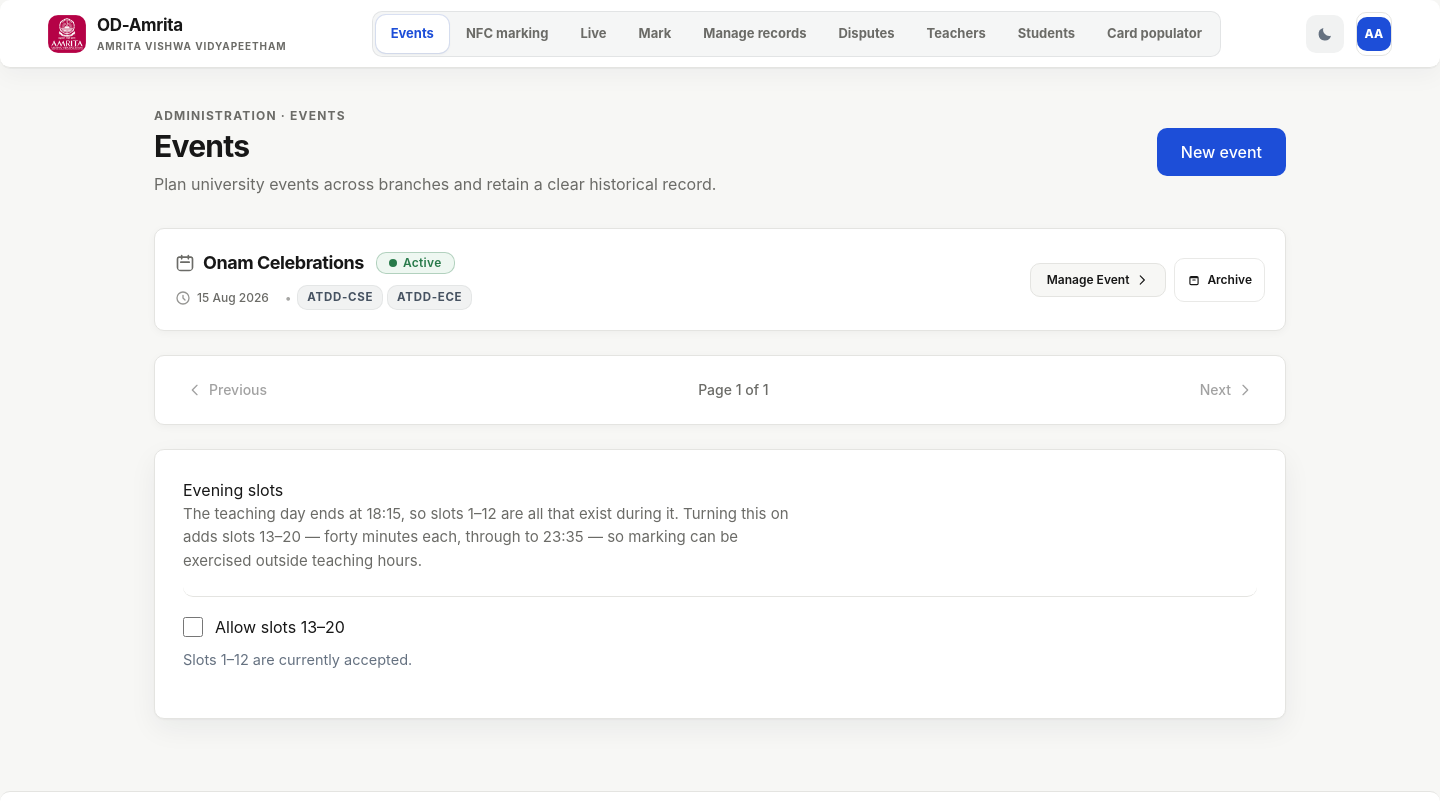
Test: Admin event detail and categories › [P1] adds a category and shows it without a manual reload
Click the link "Onam Celebrations".
click(269, 263)  # box [175,249,364,277]
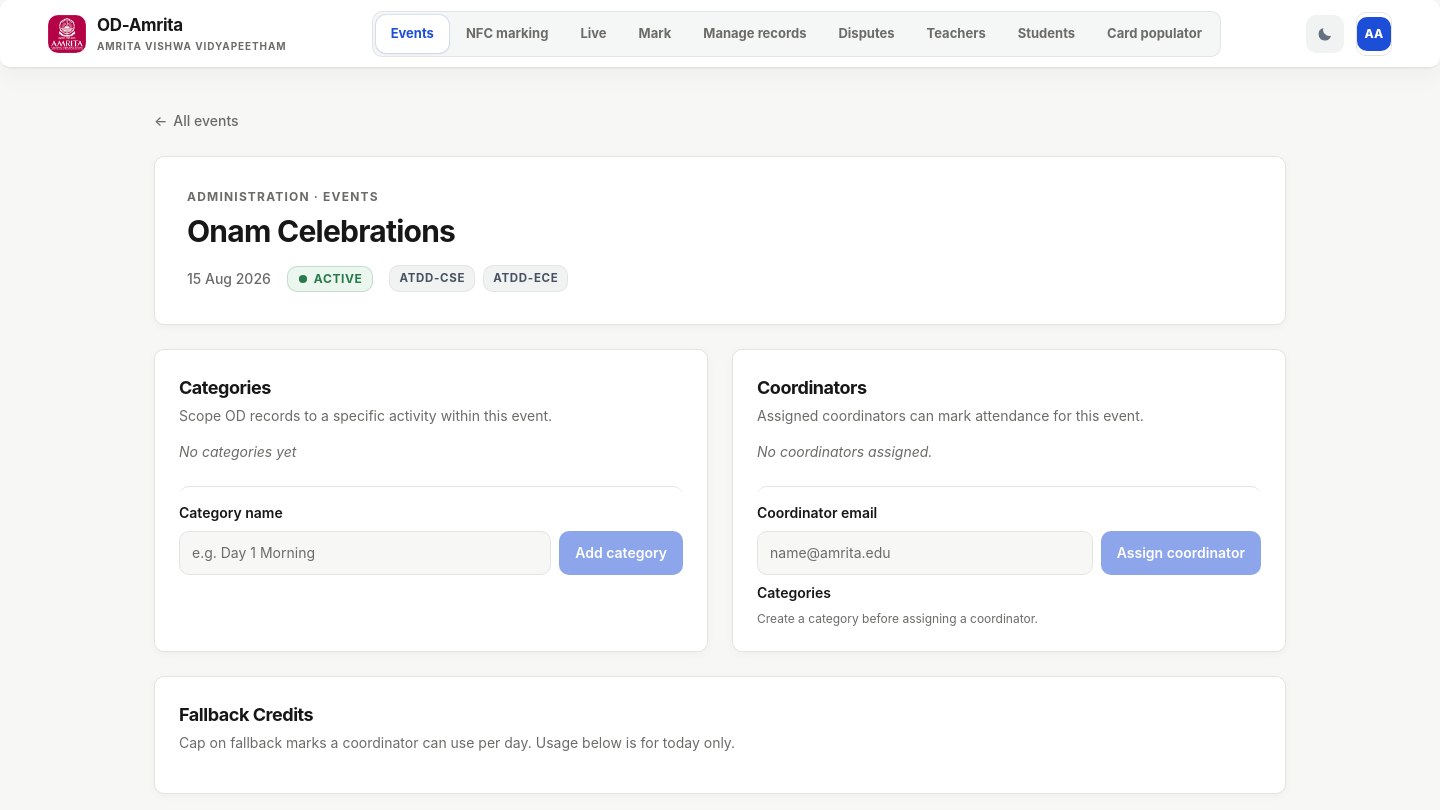
Type "Procession" into the field labelled "Category name".
click(365, 553); type("Procession")  # box [179,531,551,575]
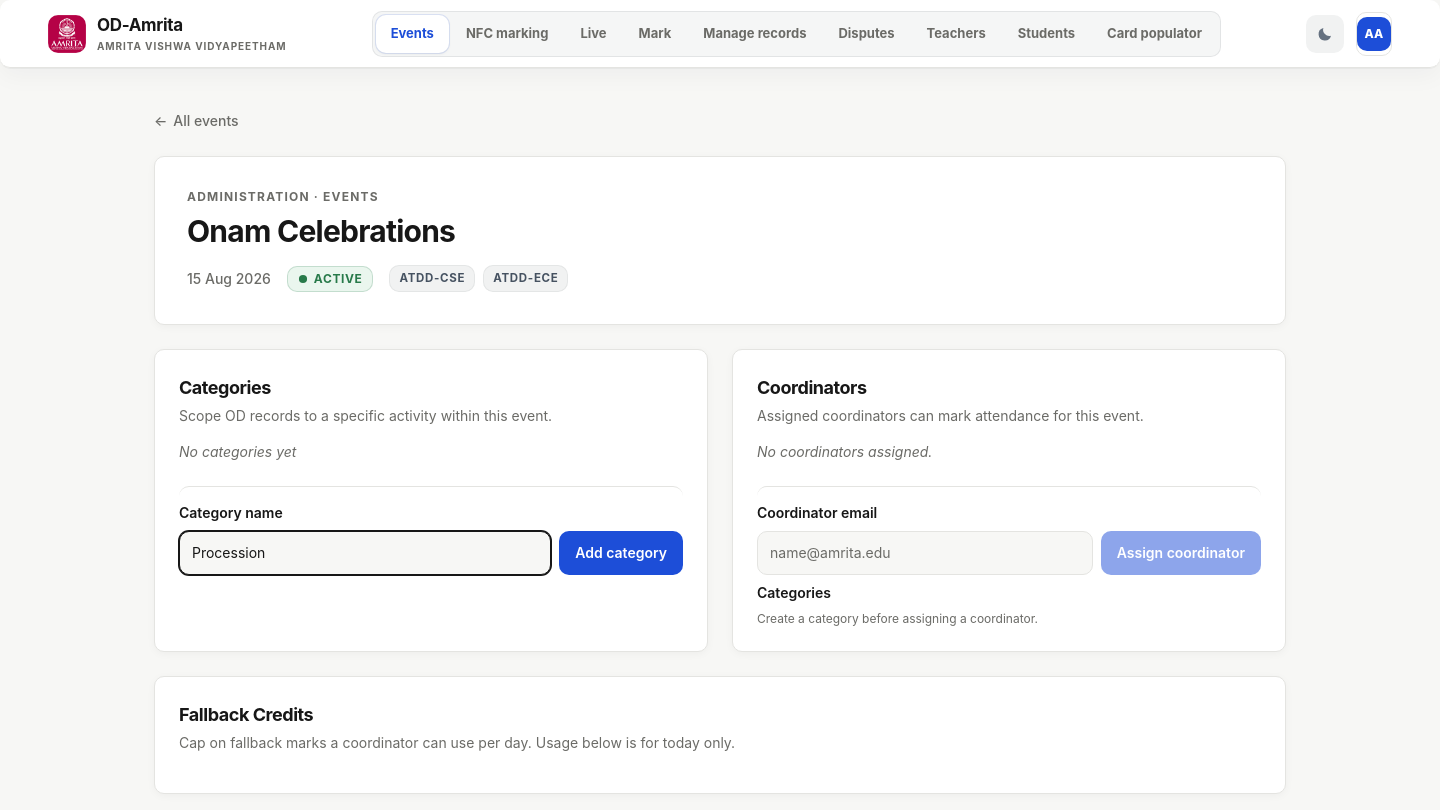
Click the button "Add category".
click(621, 553)  # box [559,531,683,575]
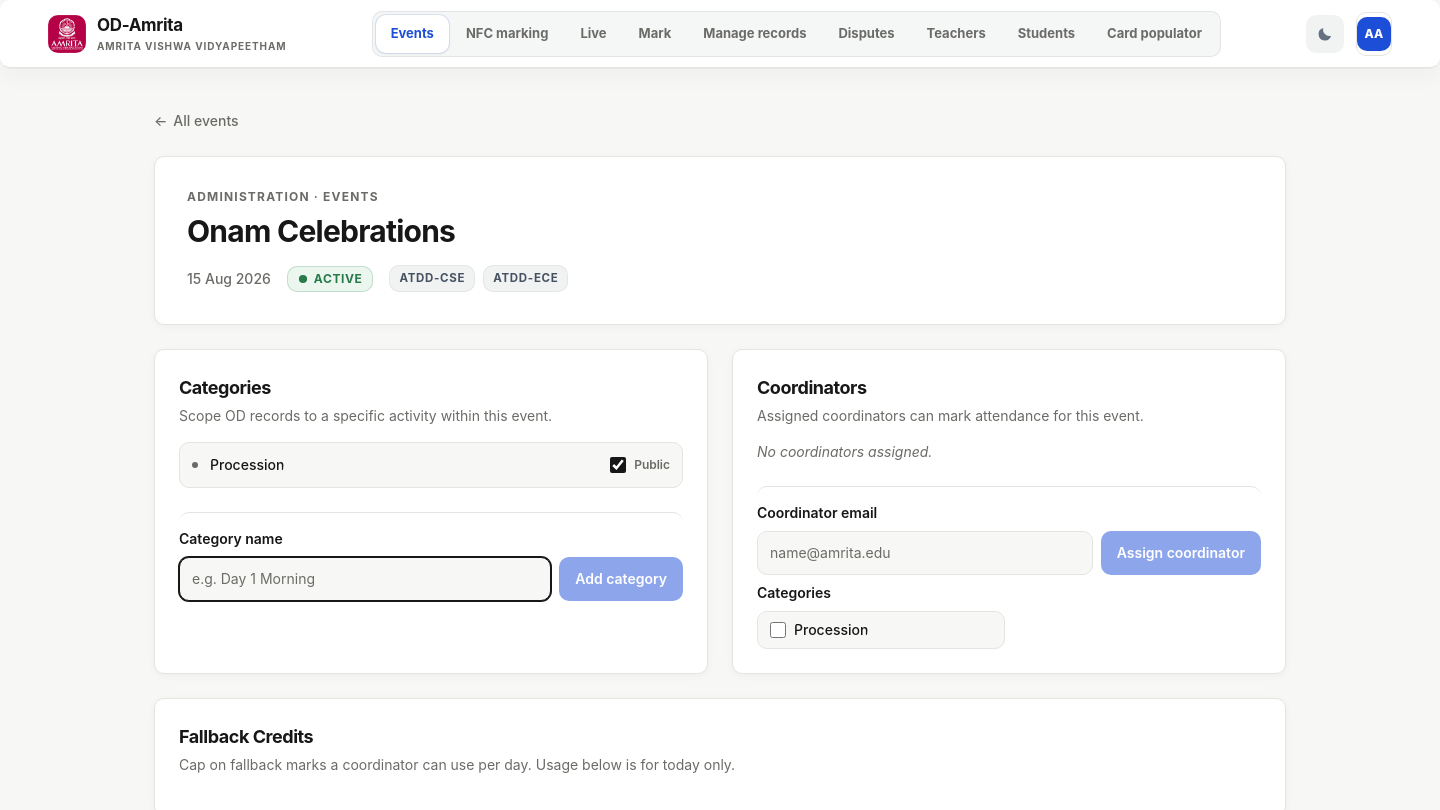
Check: the text "Procession" in the row of "Public" is shown, box [210,456,284,473]
